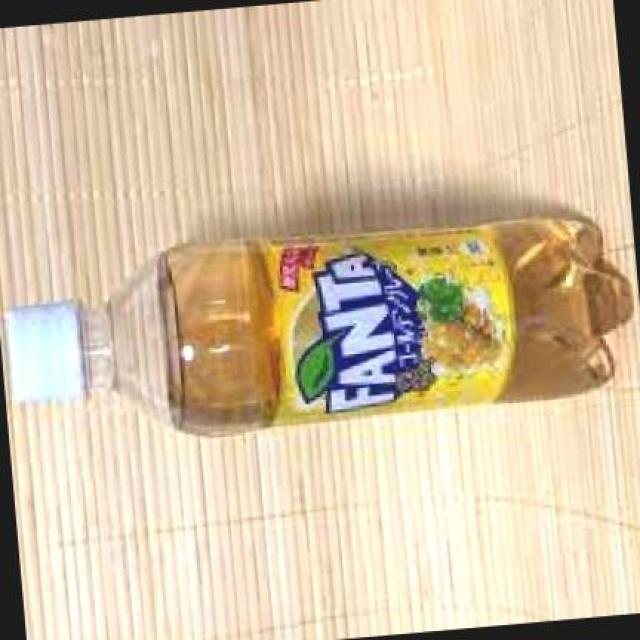high: (6, 218, 631, 434)
